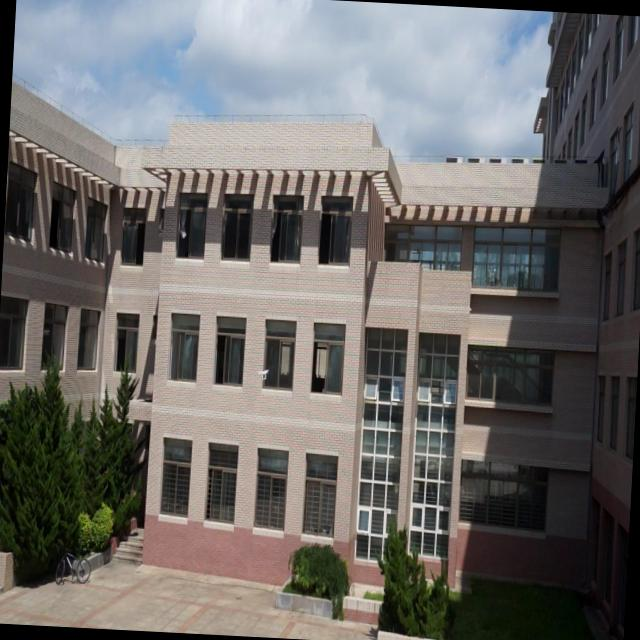drone: (254, 364, 272, 388)
